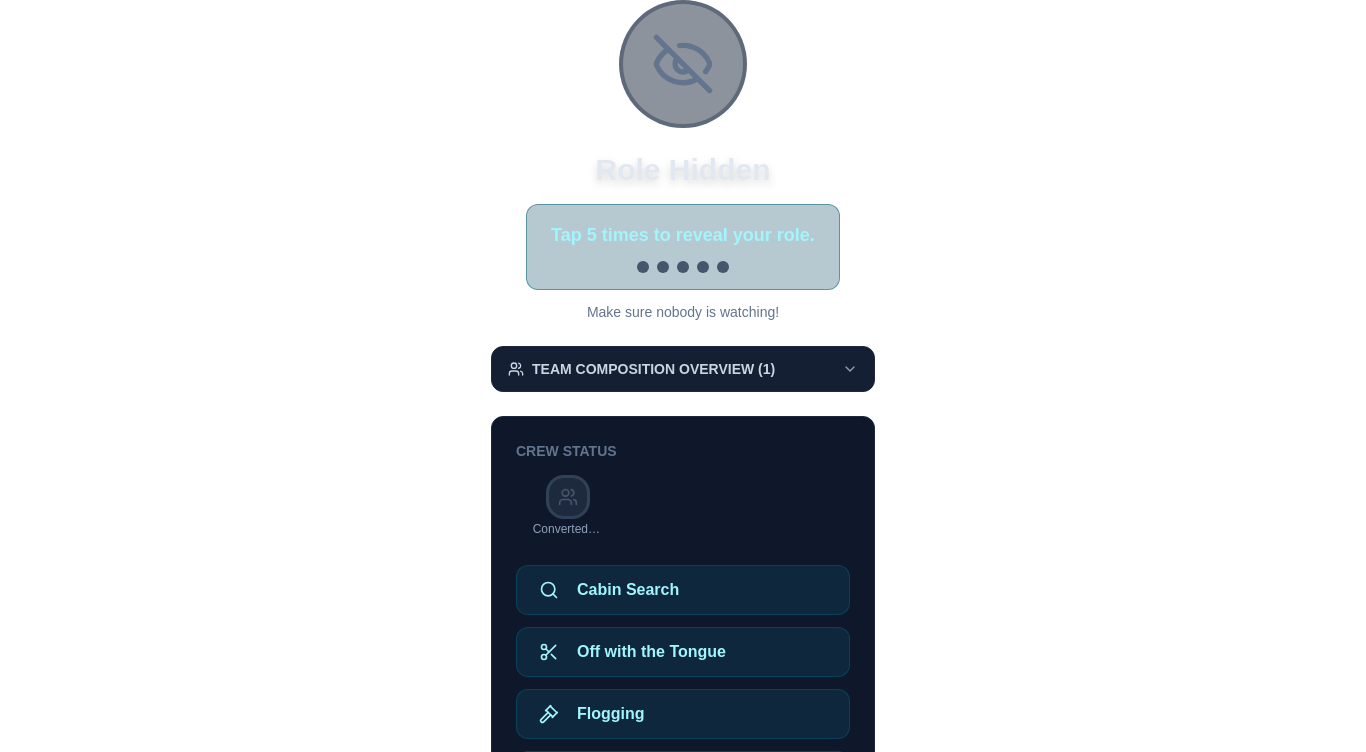
Test case: GameView › shows Cultist role for converted player
Click the button "Tap 5 times to reveal your role." at (683, 247), box x1=526 y1=204 x2=840 y2=290
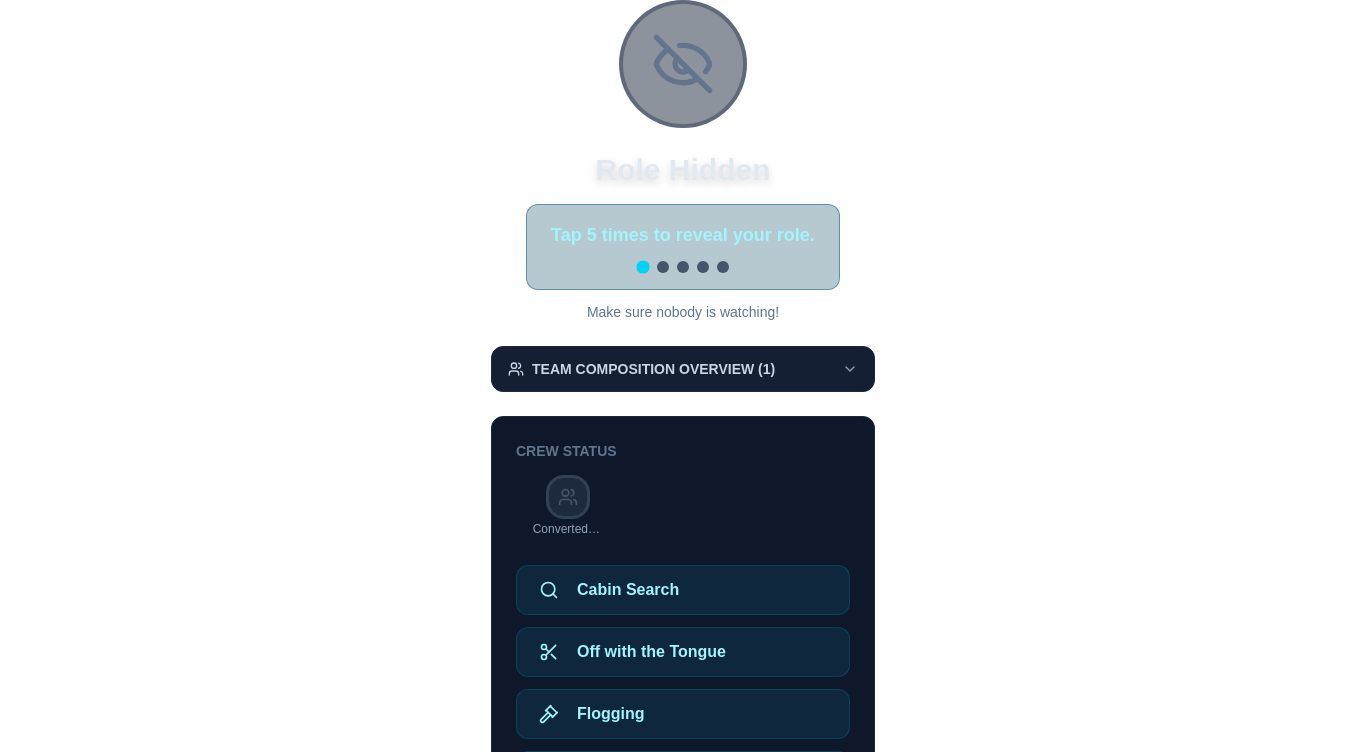
Click the button "Tap 5 times to reveal your role." at (683, 247), box x1=526 y1=204 x2=840 y2=290
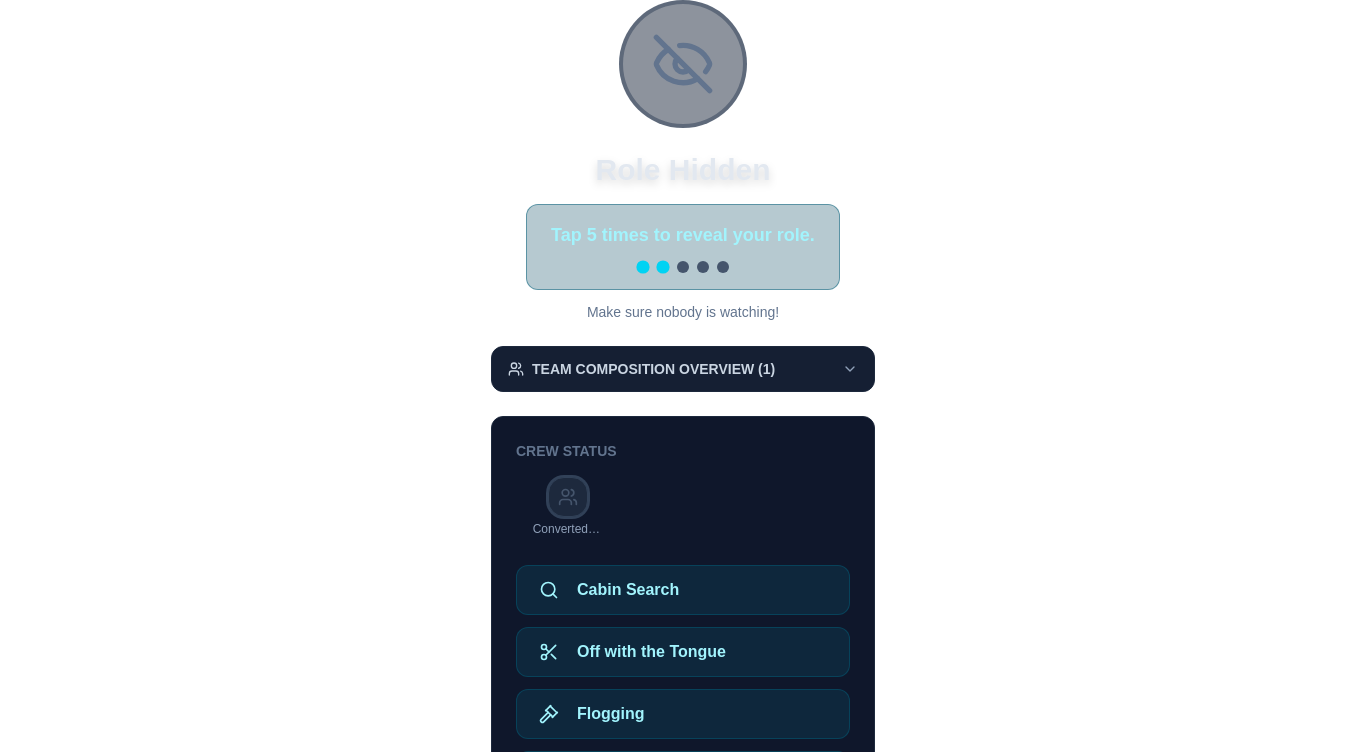
Click the button "Tap 5 times to reveal your role." at (683, 247), box x1=526 y1=204 x2=840 y2=290
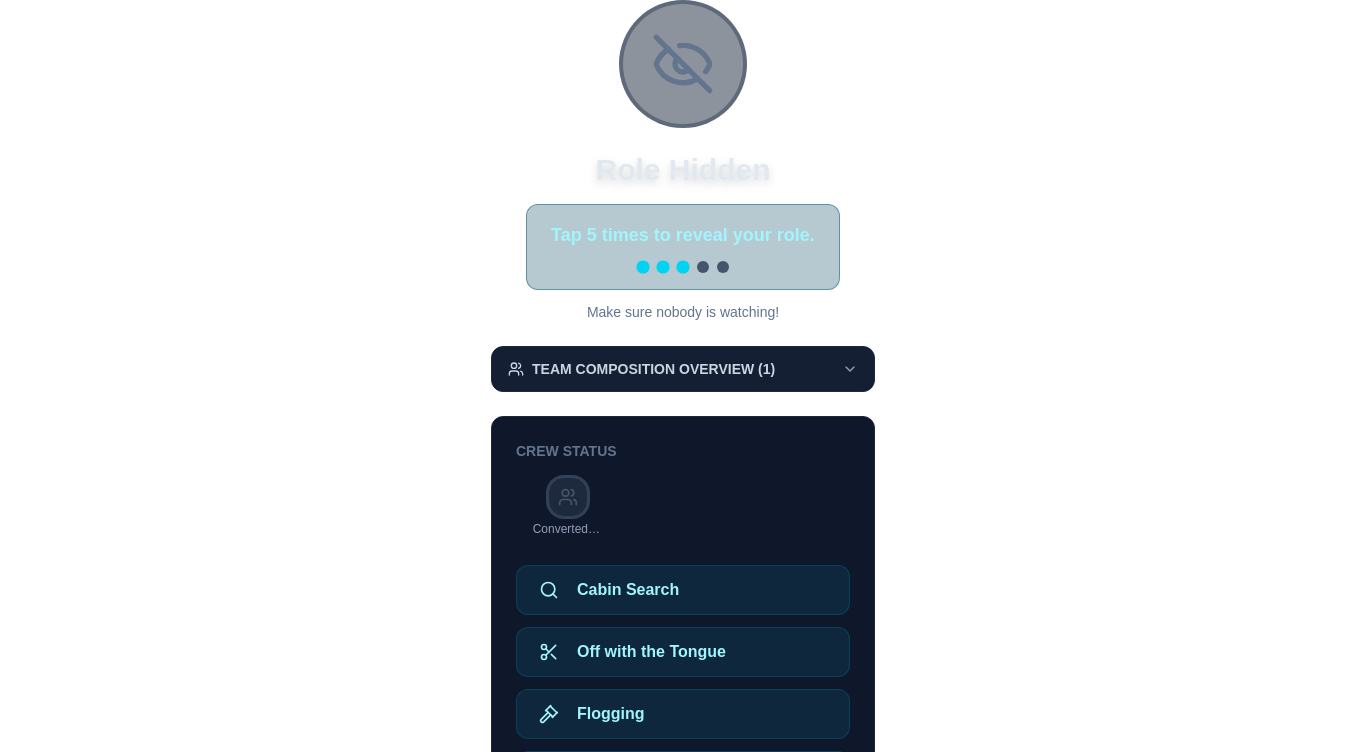
Click the button "Tap 5 times to reveal your role." at (683, 247), box x1=526 y1=204 x2=840 y2=290
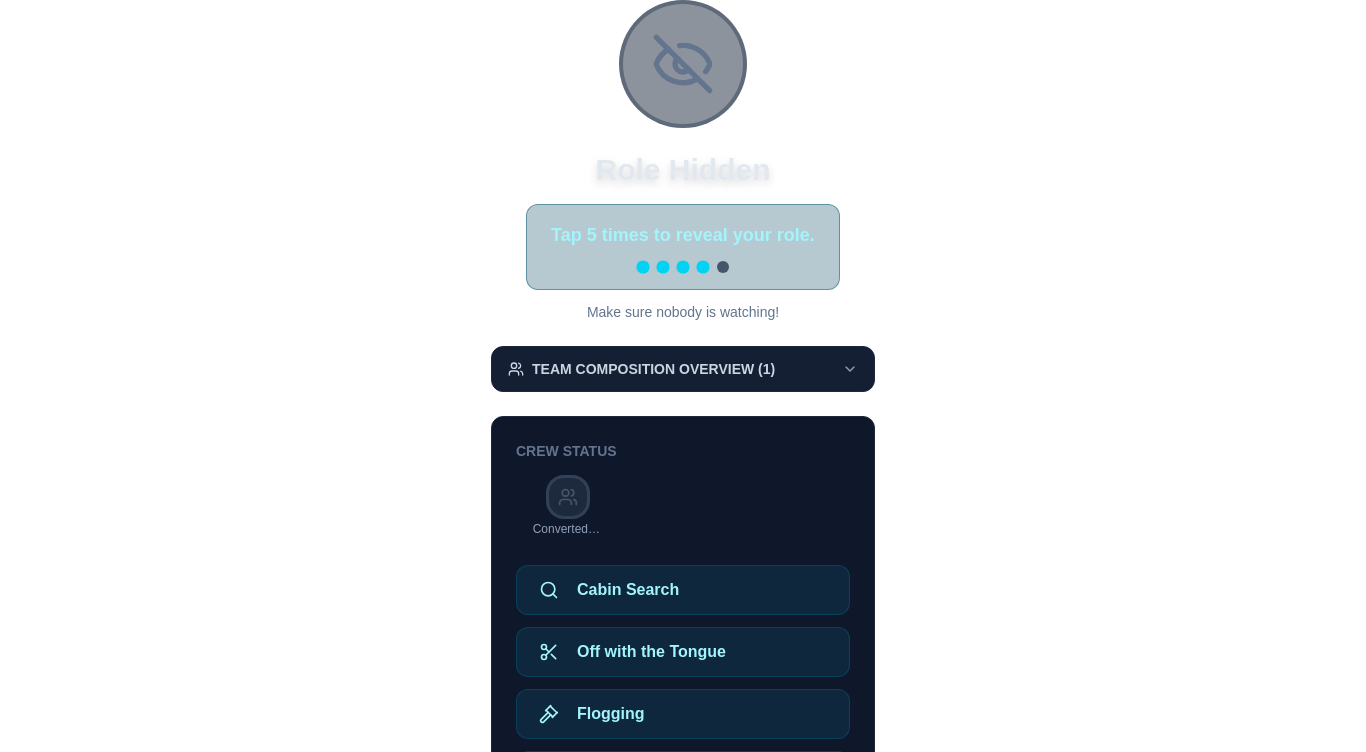
Click the button "Tap 5 times to reveal your role." at (683, 247), box x1=526 y1=204 x2=840 y2=290
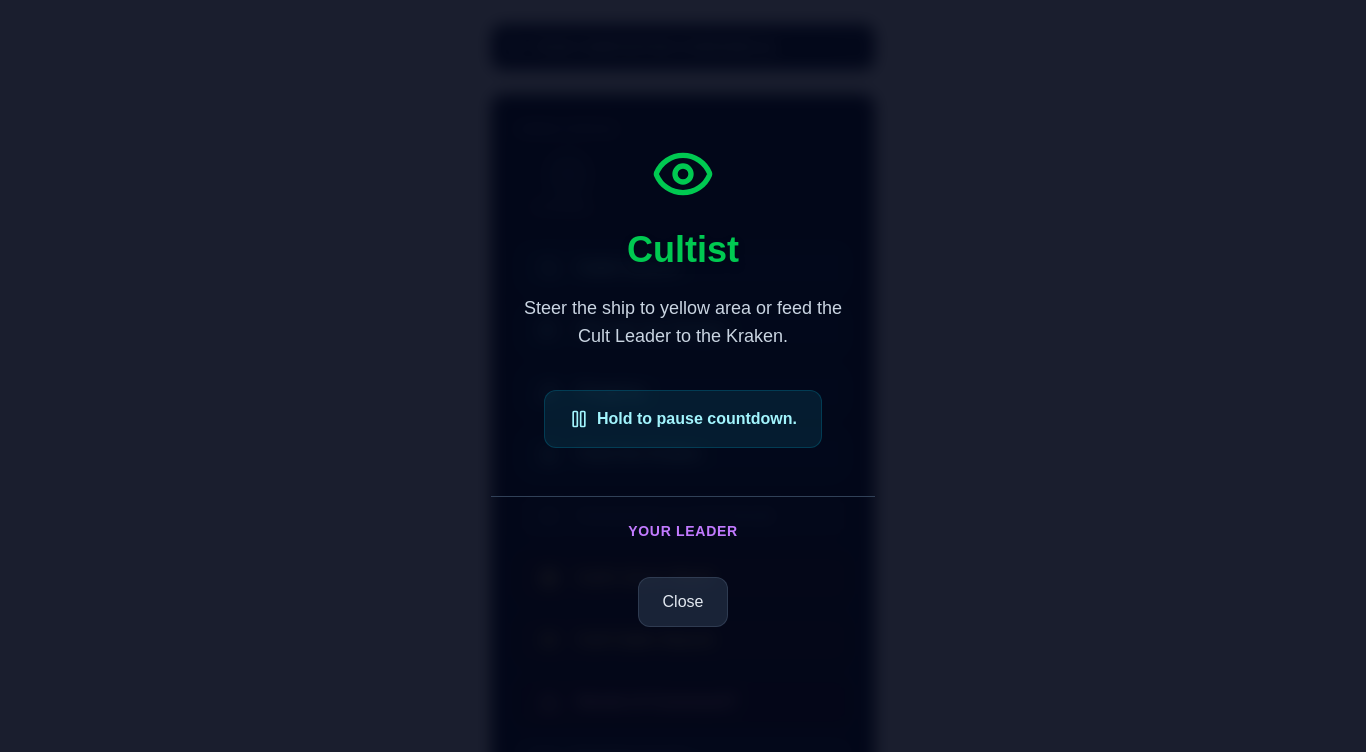
Now the heading "Cultist" is shown, box x1=627 y1=230 x2=739 y2=270
